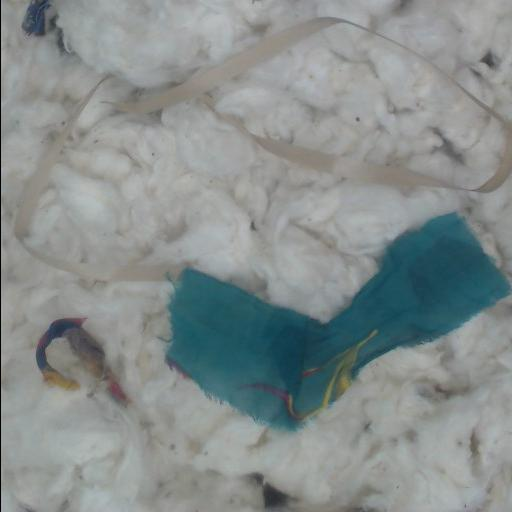cloth: (168, 213, 508, 429), (36, 318, 130, 407), (22, 0, 59, 36)
cotton: (1, 0, 512, 511)
thread: (98, 17, 512, 192), (15, 76, 172, 280), (124, 19, 353, 111), (220, 114, 455, 189), (449, 78, 512, 191), (357, 167, 454, 186), (271, 146, 332, 170)
